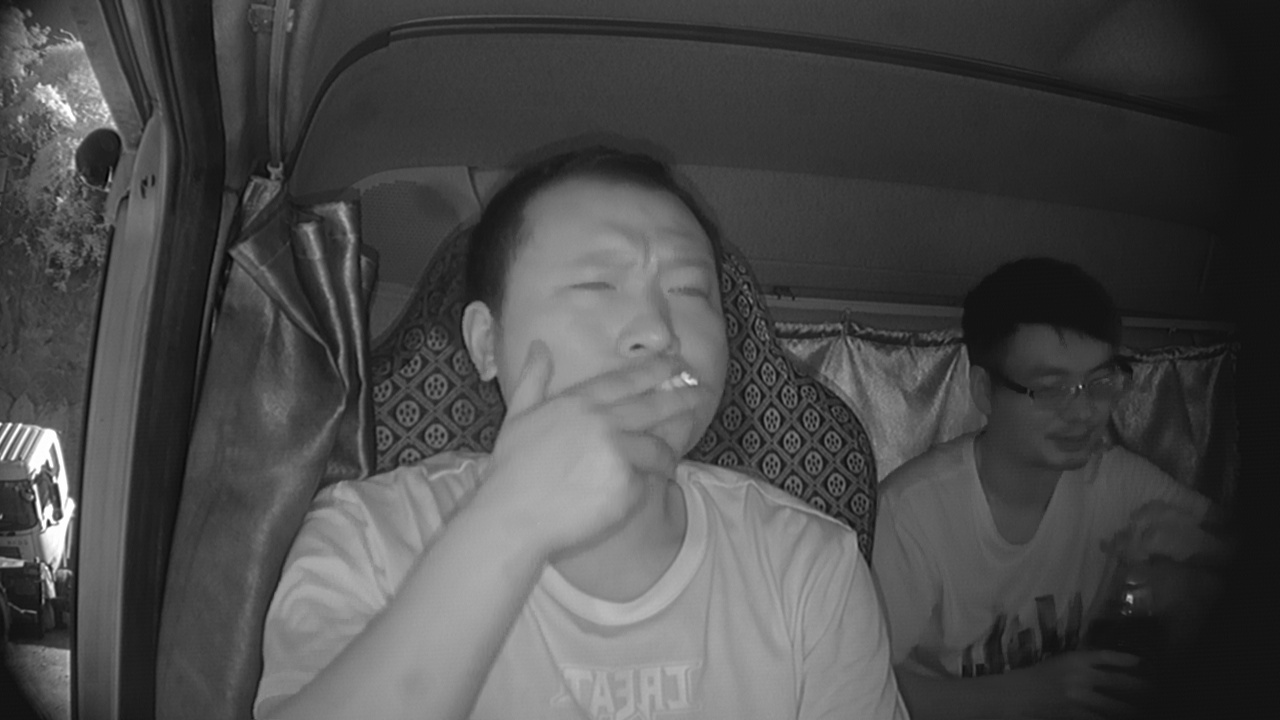hand: (567, 348, 702, 509)
